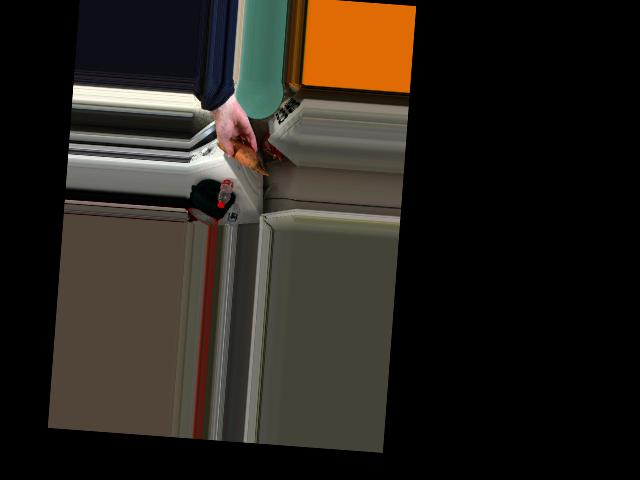sweet_potato: (221, 135, 256, 166)
